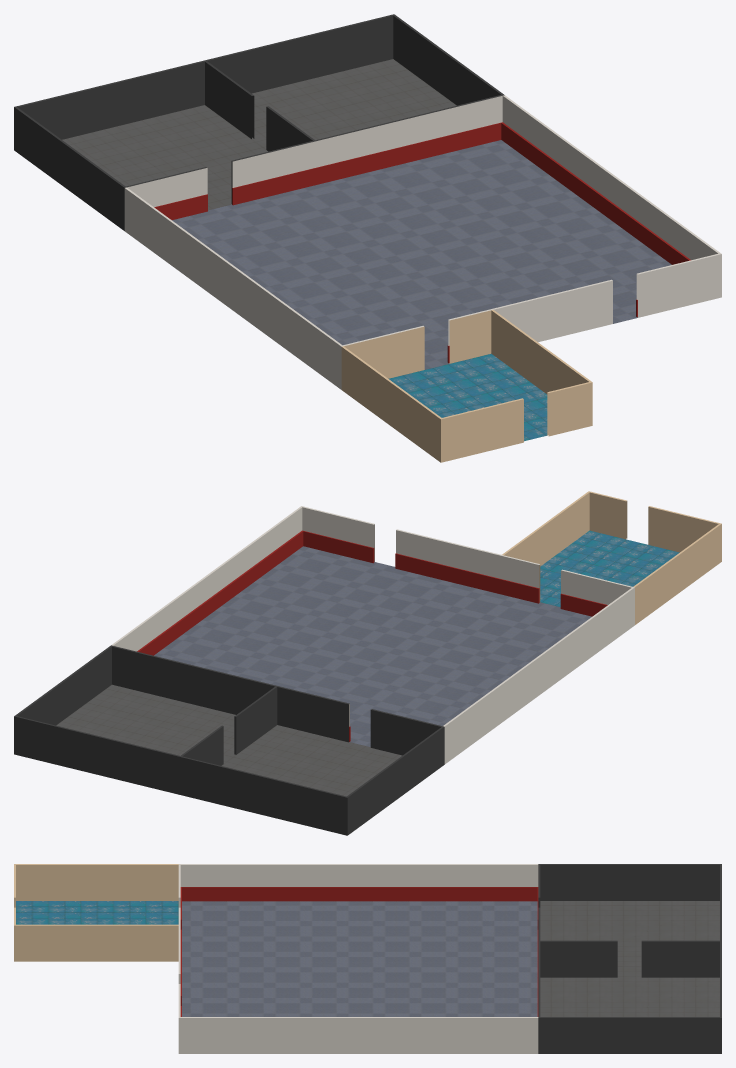
Rendered from rooms.glb.
3 views of the same model, one above another, from view 1: azimuth 30°, elevation 25°; view 2: azimuth 150°, elevation 25°; view 3: azimuth 270°, elevation 25° (orthographic). The views are drawn at different scales.
Visible parts, largest first — view 1: work_room, server_room_1, walls.009, server_room_2, work_room.001, walls.002, walls.008, postage, walls.012, walls.006, walls.001, walls.017 (+12 smaller); view 2: work_room, walls.009, server_room_2, server_room_1, work_room.001, walls.002, walls.008, walls.006, postage, walls.012, walls.001, walls.017 (+12 smaller); view 3: work_room, walls.012, walls.009, server_room_1, server_room_2, walls.007, walls.001, walls.018, walls.017, work_room.001, postage, walls.005 (+1 smaller).
Boxes of the visible parts, box(x1,y1,x2,y2) form: work_room: box(172, 140, 671, 369); server_room_1: box(62, 105, 267, 210); walls.009: box(124, 187, 342, 389); server_room_2: box(252, 59, 456, 149); work_room.001: box(154, 122, 690, 363); walls.002: box(14, 60, 204, 139); walls.008: box(204, 14, 393, 93); postage: box(388, 353, 547, 441); walls.012: box(502, 95, 721, 259); walls.006: box(315, 95, 504, 167); walls.001: box(14, 107, 125, 230); walls.017: box(341, 346, 441, 462); work_room: box(154, 546, 591, 746); walls.009: box(443, 587, 634, 764); server_room_2: box(56, 684, 235, 763); server_room_1: box(221, 725, 402, 796); work_room.001: box(137, 530, 607, 741); walls.002: box(179, 756, 347, 835); walls.008: box(14, 716, 181, 794); walls.006: box(111, 645, 275, 714); postage: box(540, 530, 679, 607); walls.012: box(111, 506, 302, 651); walls.001: box(347, 726, 444, 835); walls.017: box(633, 523, 721, 624); work_room: box(182, 901, 537, 1016); walls.012: box(178, 1017, 538, 1053); walls.009: box(179, 864, 538, 886); server_room_1: box(540, 901, 719, 976); server_room_2: box(540, 976, 719, 1016); walls.007: box(538, 1017, 721, 1053); walls.001: box(539, 864, 721, 900); walls.018: box(14, 924, 178, 961); walls.017: box(14, 864, 178, 900); work_room.001: box(180, 887, 538, 1016); postage: box(16, 901, 178, 924); walls.005: box(641, 940, 719, 977).
Size of the model in its own units: 20.18 by 2.2 by 39.23.
Materials: 7 (3 with a texture image).
